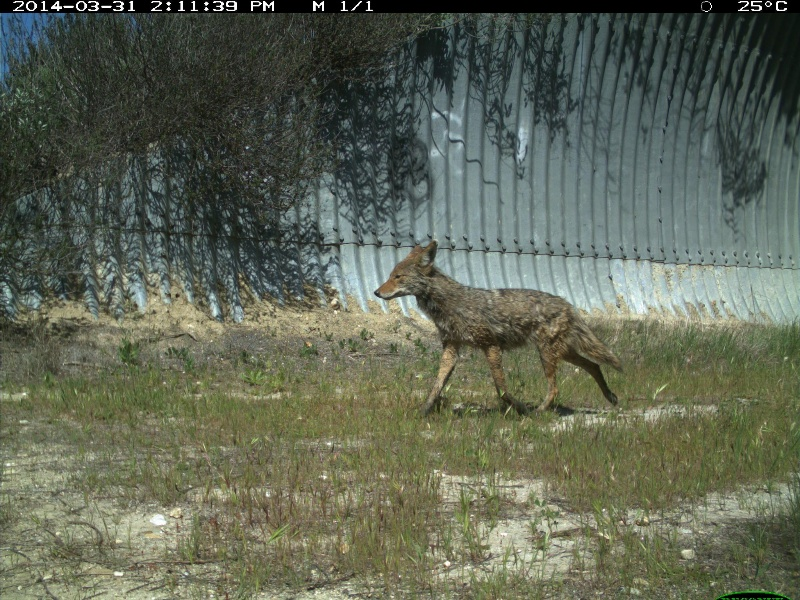coyote: (372, 241, 626, 416)
